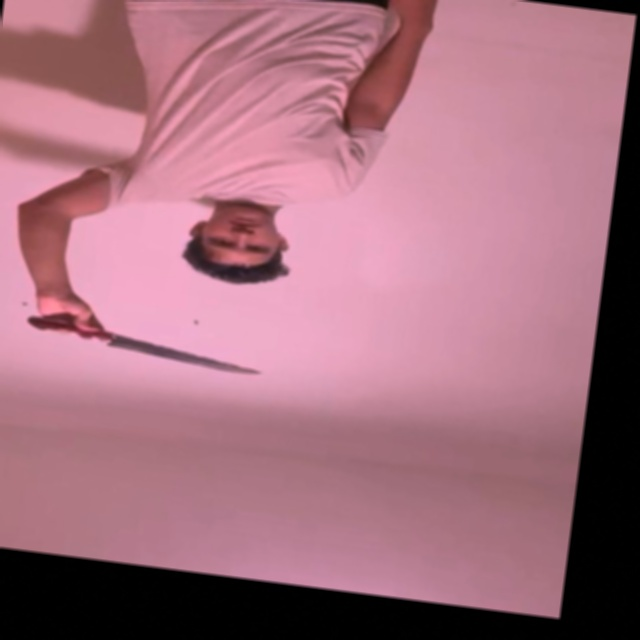Sharp-Object: (100, 333, 261, 379)
